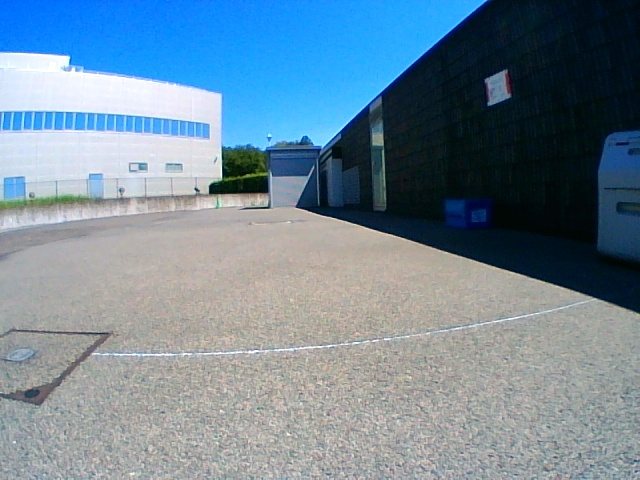blue_box: (446, 200, 491, 228)
tag: (472, 209, 483, 221)
